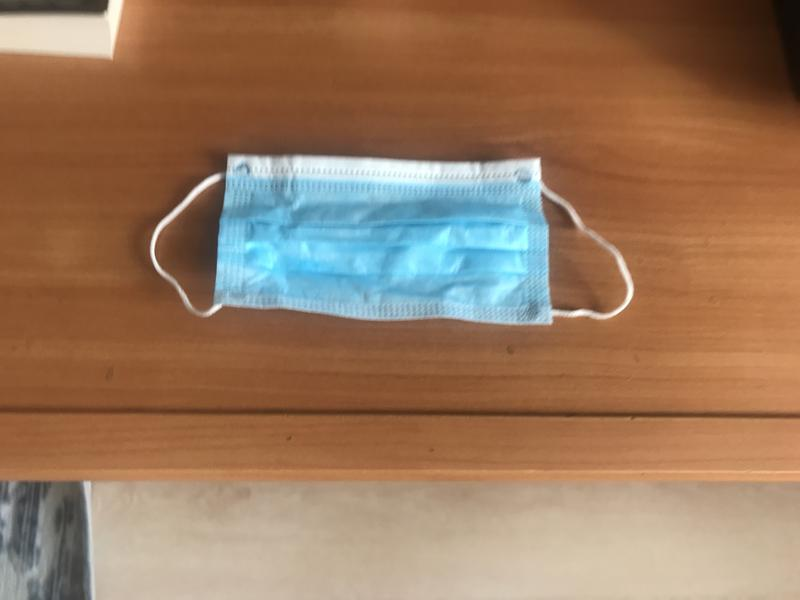medical_mask: (154, 153, 633, 325)
